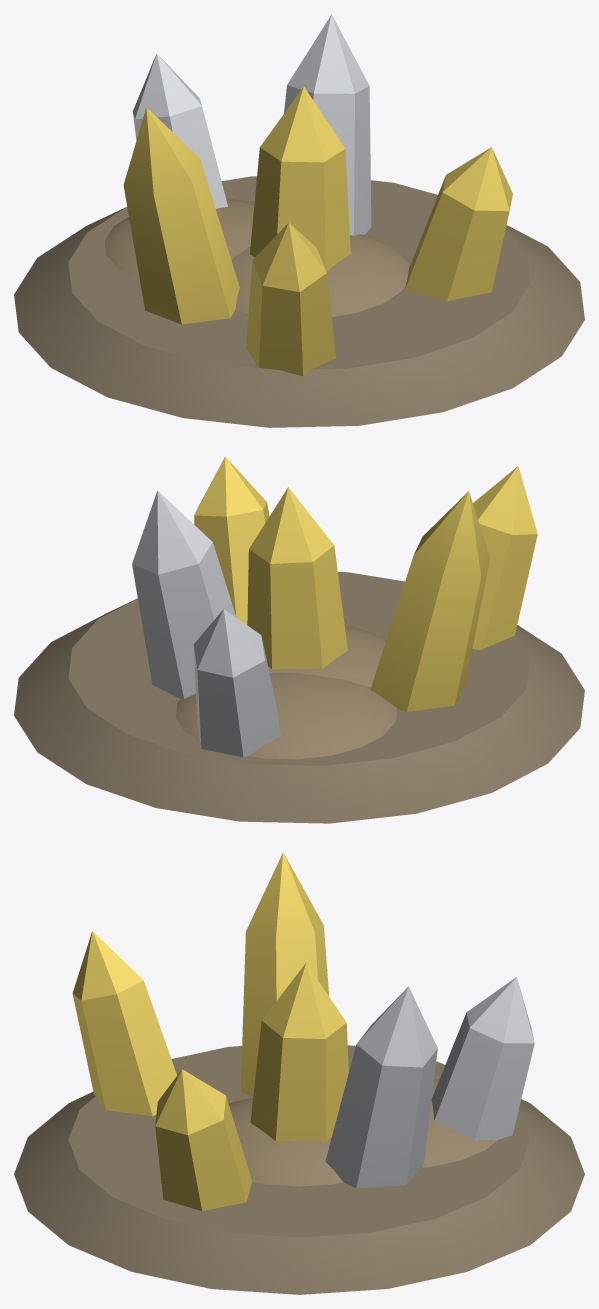
Rendered from ore_stage_2.glb.
3 views of the same model, one above another, from view 1: azimuth 30°, elevation 25°; view 2: azimuth 150°, elevation 25°; view 3: azimuth 270°, elevation 25° (orthographic).
Visible parts, largest first — view 1: Hull; view 2: Hull; view 3: Hull.
Boxes of the visible parts, bbox=[...] form: Hull: bbox=[14, 14, 584, 427]; Hull: bbox=[14, 456, 584, 823]; Hull: bbox=[14, 852, 584, 1294].
Size of what is drawn, in the model's own units: 0.84 by 0.396 by 0.84.
